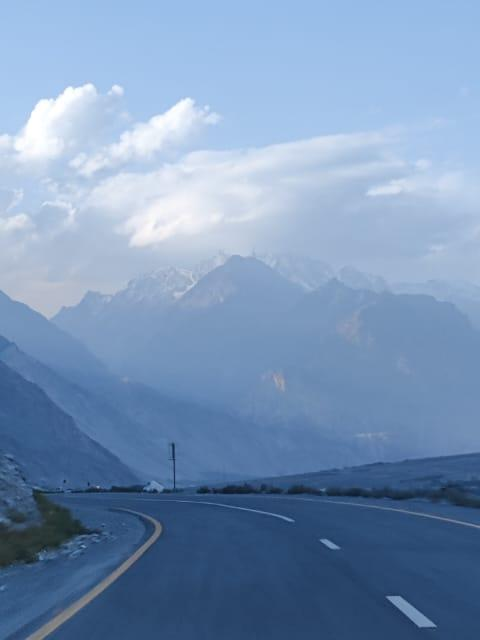left_turn: (83, 475, 346, 535)
